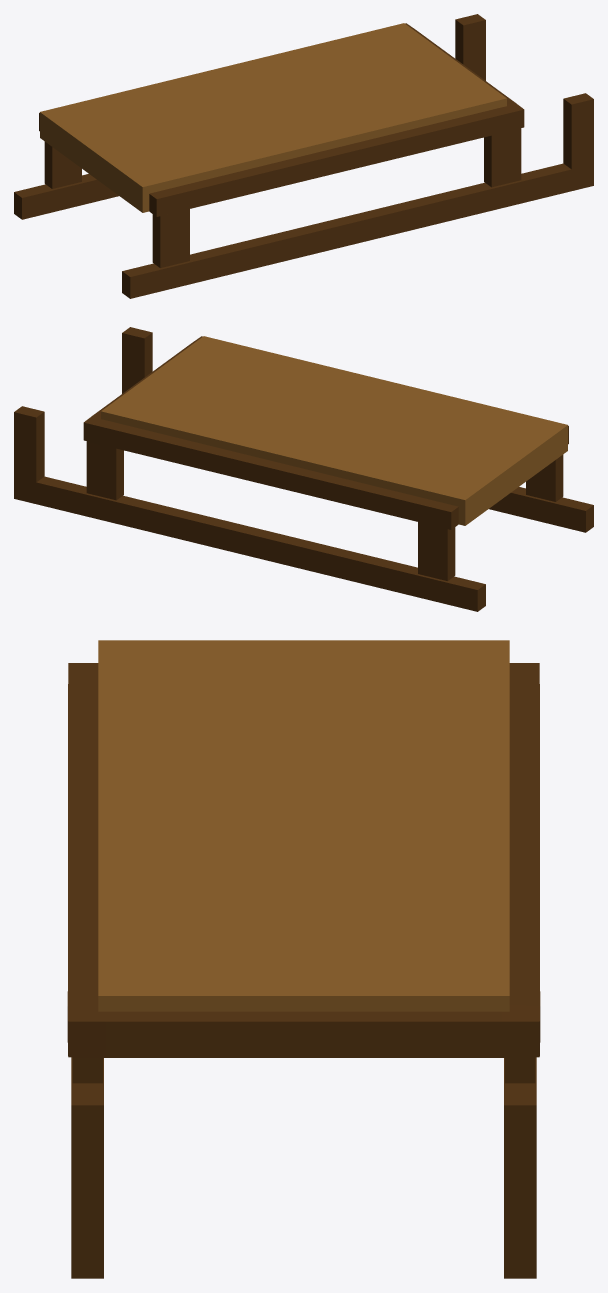
The model's file is Slaigh_02.fbx.
3 views of the same model, one above another, from view 1: azimuth 30°, elevation 25°; view 2: azimuth 150°, elevation 25°; view 3: azimuth 270°, elevation 25° (orthographic). The views are drawn at different scales.
Parts seen in each view (by area): view 1: Slaig_02; view 2: Slaig_02; view 3: Slaig_02.
Boxes of the visible parts, x1,y1,x2,y2 form: Slaig_02: (14, 14, 593, 298); Slaig_02: (14, 327, 593, 611); Slaig_02: (67, 640, 540, 1278).
Bounding box in the file's own units: 0.1566 × 0.033 × 0.0691.
